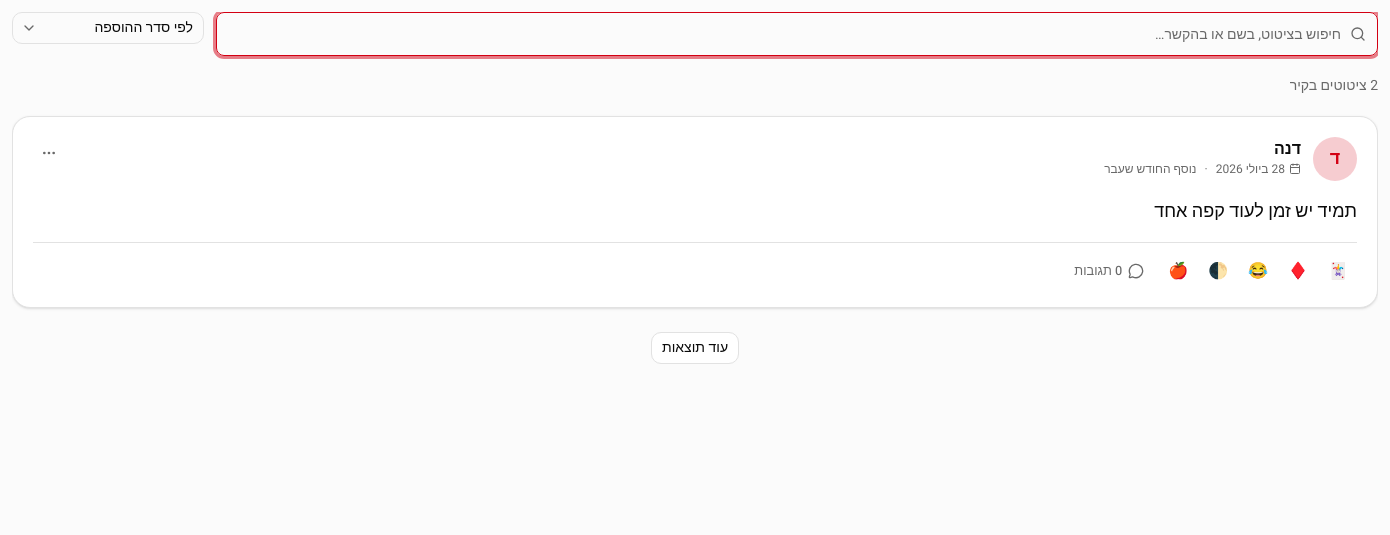
Test: QuoteSearch › appends the next page without duplicating what is on screen
Expected: the text "תמיד יש זמן לעוד קפה אחד" is shown, [1154,198,1357,225]
Click the button "עוד תוצאות" at (695, 348), box [651,332,739,364]
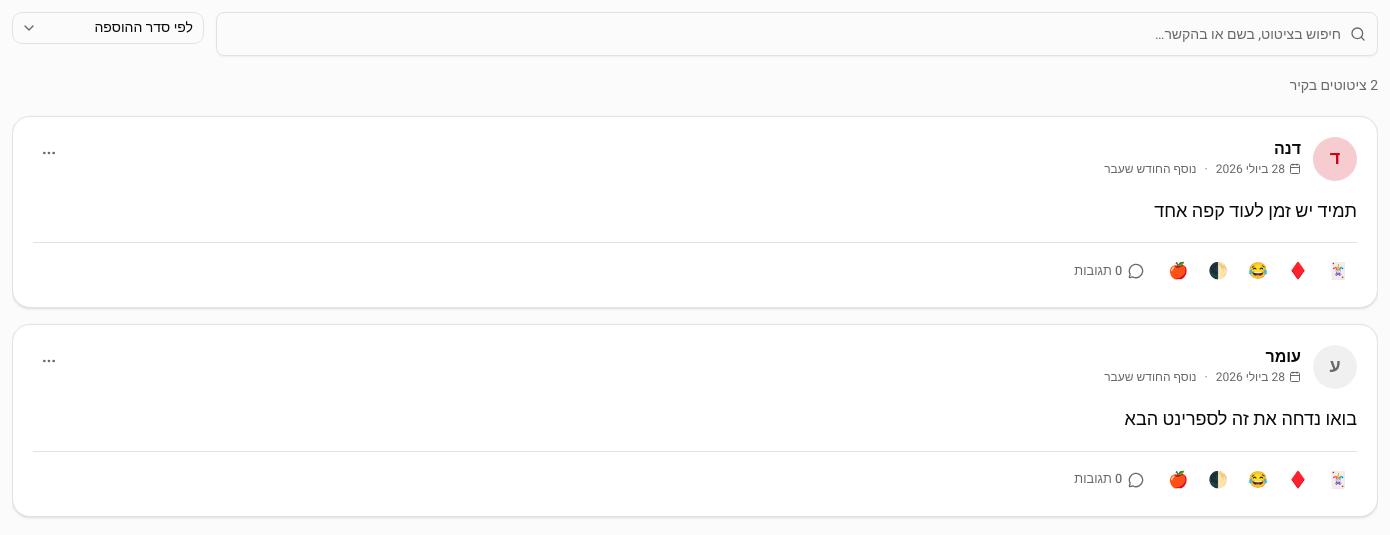
Expected: the text "תמיד יש זמן לעוד קפה אחד" is shown once, [1154,198,1357,225]
Expected: the text "בואו נדחה את זה לספרינט הבא" is shown, [1125,406,1357,433]
